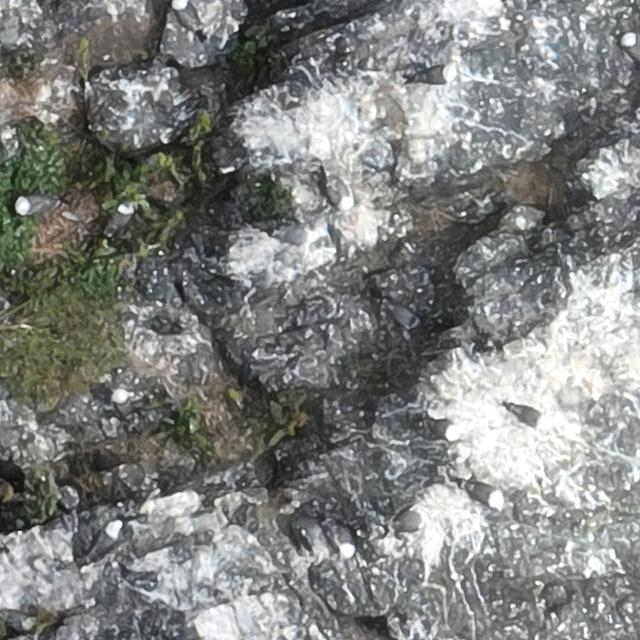umineko: (86, 518, 123, 564), (460, 482, 504, 507), (326, 522, 354, 560), (410, 62, 458, 84), (507, 404, 548, 429), (325, 178, 353, 211), (270, 224, 316, 244), (175, 1, 199, 32), (92, 384, 129, 403), (110, 204, 132, 235), (16, 197, 54, 214), (622, 33, 640, 64)
